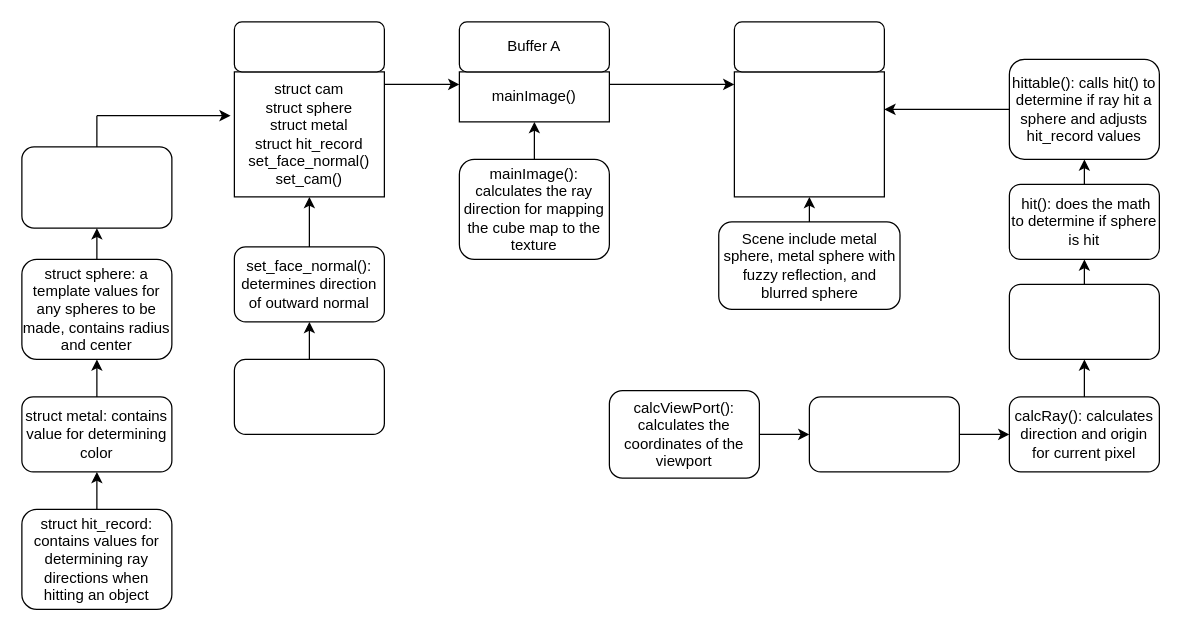
The diagram is 1181 pixels wide and 631 high, and some of its shapes have lost their labels. The shapes that lost their labels are listed below. From the top down, each one's centre as x and y in pixels, then its label:
At point 308,46: "Common".
At point 808,46: "Image".
At point 808,134: "hittable() calcColor() calcRay() randomFloat() hit() calcViewPort()".
At point 96,187: "struct cam: contains values used in determining camera for output".
At point 1083,321: "calcColor(): calculates the color of a pixel given a ray".
At point 308,396: "set_cam: set values of current instance of struct cam".
At point 883,434: "randomFloat(): calculated a random float".
